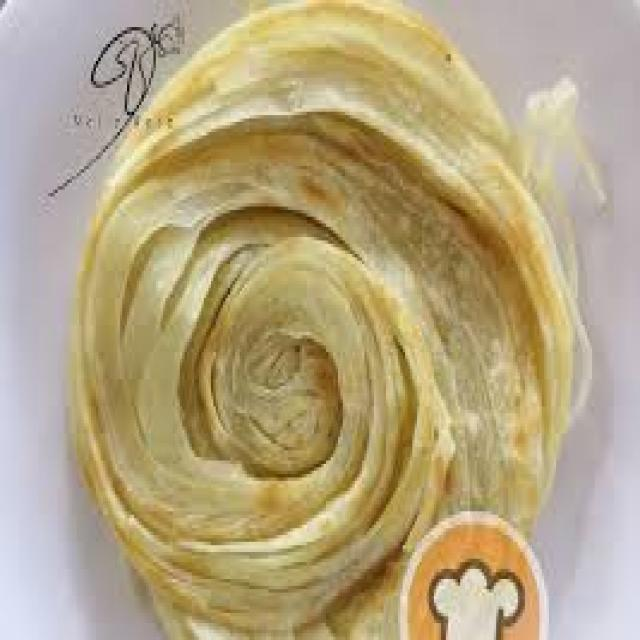Paratha: (74, 15, 591, 640)
